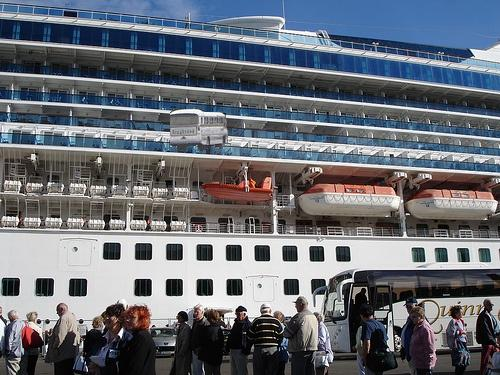tampered: (171, 110, 228, 151)
